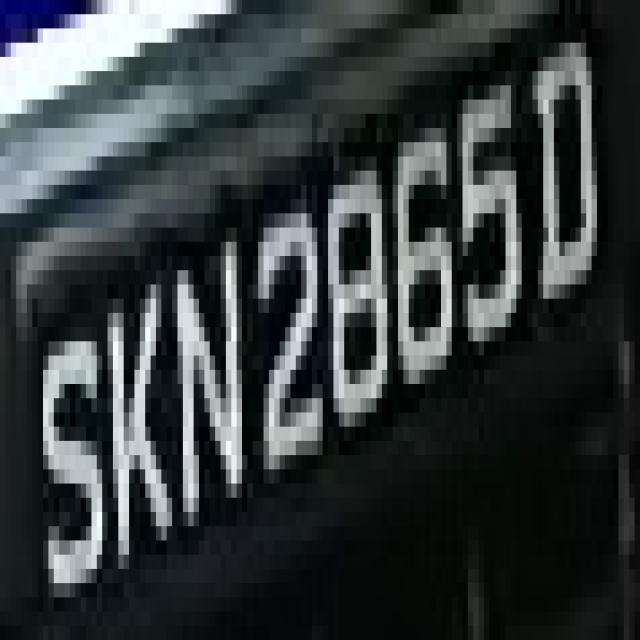2: (242, 171, 328, 484)
5: (436, 14, 522, 356)
6: (382, 100, 462, 412)
8: (307, 114, 387, 455)
D: (511, 0, 592, 384)
K: (91, 227, 178, 569)
N: (156, 228, 242, 554)
S: (32, 299, 102, 583)
